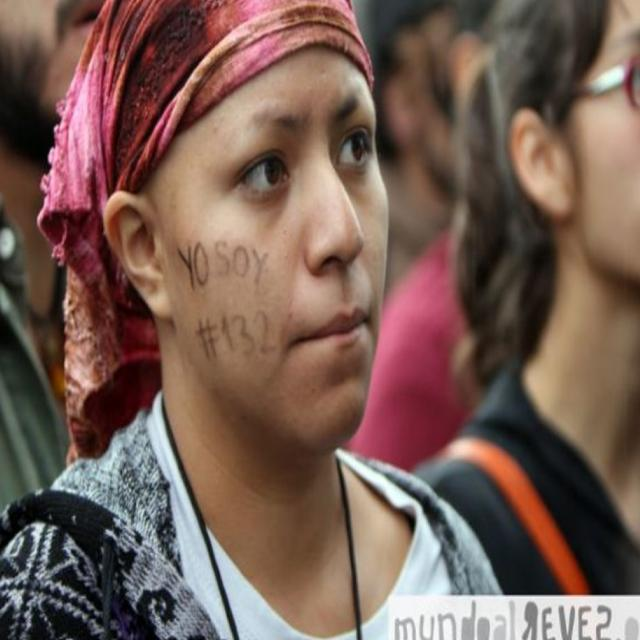Glasses: (572, 28, 640, 100)
